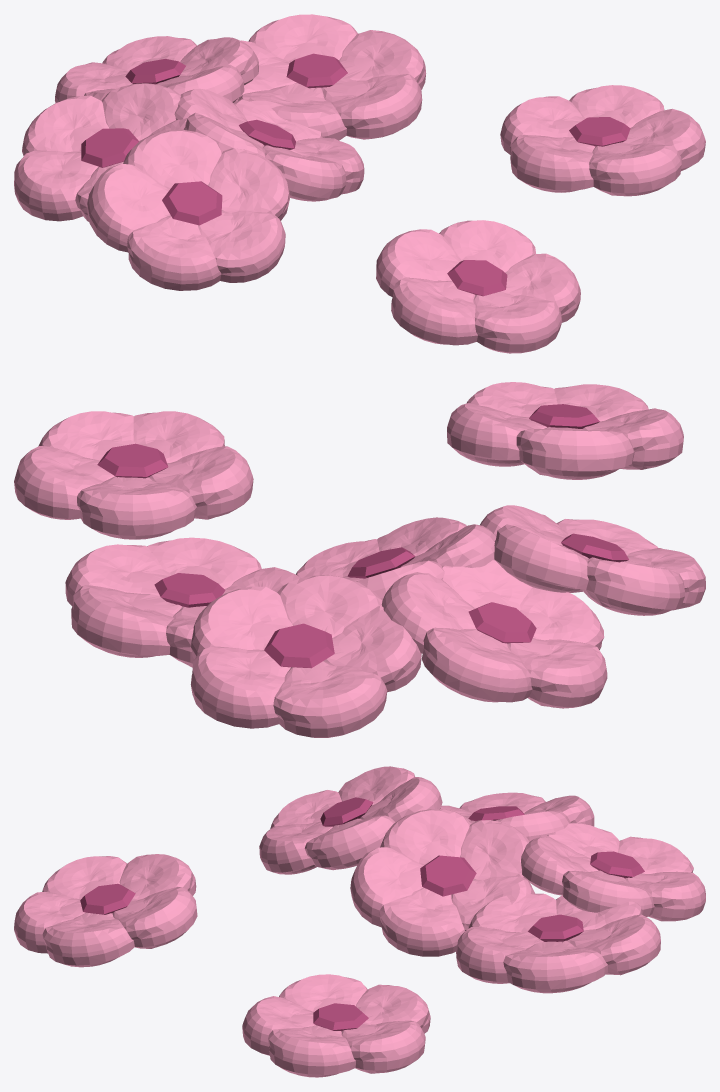
Rendered from Flor5.obj.
3 renders of one model, top to bottom at view 1: azimuth 30°, elevation 25°; view 2: azimuth 150°, elevation 25°; view 3: azimuth 270°, elevation 25°, orthographic. The views are drawn at different scales.
Visible parts, largest first — view 1: Sphere.007, Sphere.013, Sphere.012, Sphere.011, Sphere.008, Sphere.009, Sphere.010, Cone.007, Cone.008, Cone.013, Cone.011, Cone.012 (+2 smaller); view 2: Sphere.010, Sphere.012, Sphere.008, Sphere.013, Sphere.011, Sphere.007, Sphere.009, Cone.010, Cone.008, Cone.012, Cone.011, Cone.013 (+2 smaller); view 3: Sphere.009, Sphere.013, Sphere.011, Sphere.012, Sphere.010, Sphere.007, Sphere.008, Cone.009, Cone.013, Cone.012, Cone.011, Cone.010 (+2 smaller).
Part boxes in pixels (left/top/right/bottom): Sphere.007: left=87, top=129, right=290, bottom=290; Sphere.013: left=376, top=220, right=580, bottom=353; Sphere.012: left=500, top=85, right=705, bottom=196; Sphere.011: left=235, top=14, right=426, bottom=140; Sphere.008: left=14, top=83, right=187, bottom=221; Sphere.009: left=174, top=88, right=364, bottom=201; Sphere.010: left=55, top=36, right=258, bottom=102; Cone.007: left=162, top=181, right=222, bottom=225; Cone.008: left=81, top=128, right=138, bottom=167; Cone.013: left=447, top=260, right=507, bottom=296; Cone.011: left=286, top=53, right=347, bottom=88; Cone.012: left=569, top=117, right=630, bottom=146; Sphere.010: left=190, top=575, right=421, bottom=737; Sphere.012: left=14, top=411, right=253, bottom=539; Sphere.008: left=381, top=560, right=607, bottom=708; Sphere.013: left=447, top=382, right=683, bottom=479; Sphere.011: left=65, top=537, right=300, bottom=667; Sphere.007: left=480, top=505, right=705, bottom=615; Sphere.009: left=296, top=517, right=496, bottom=600; Cone.010: left=264, top=623, right=334, bottom=668; Cone.008: left=468, top=602, right=536, bottom=643; Cone.012: left=97, top=443, right=168, bottom=478; Cone.011: left=154, top=573, right=225, bottom=607; Cone.013: left=529, top=404, right=599, bottom=428; Sphere.009: left=350, top=809, right=534, bottom=956; Sphere.013: left=14, top=854, right=197, bottom=967; Sphere.011: left=456, top=893, right=660, bottom=993; Sphere.012: left=242, top=974, right=430, bottom=1077; Sphere.010: left=521, top=823, right=705, bottom=921; Sphere.007: left=259, top=766, right=442, bottom=874; Sphere.008: left=440, top=792, right=594, bottom=841; Cone.009: left=420, top=855, right=476, bottom=896; Cone.013: left=80, top=883, right=135, bottom=914; Cone.012: left=313, top=1003, right=368, bottom=1031; Cone.011: left=528, top=914, right=583, bottom=941; Cone.010: left=590, top=851, right=644, bottom=878.
Bounding box in the file's own units: 5.25 × 0.9013 × 5.9.
